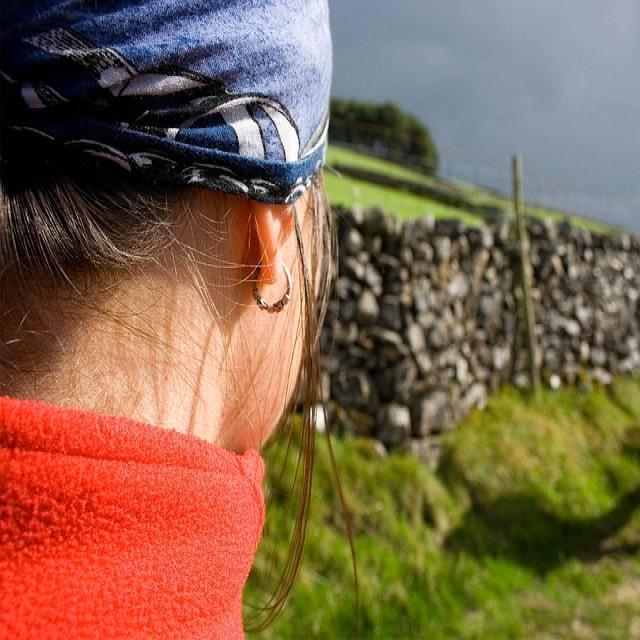no_hard_hat: (0, 0, 331, 203)
person: (0, 163, 333, 639)
